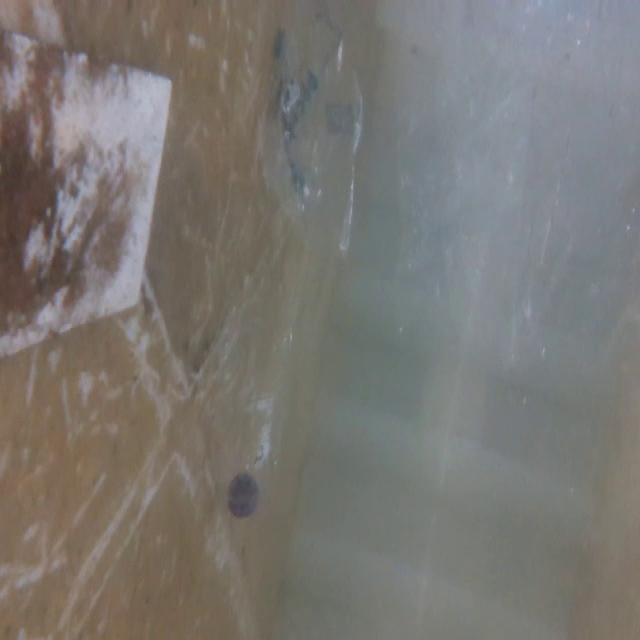metal: (0, 43, 174, 351)
plastic bags: (398, 0, 564, 385), (246, 0, 367, 250)
plastic bottle: (205, 304, 296, 519)
